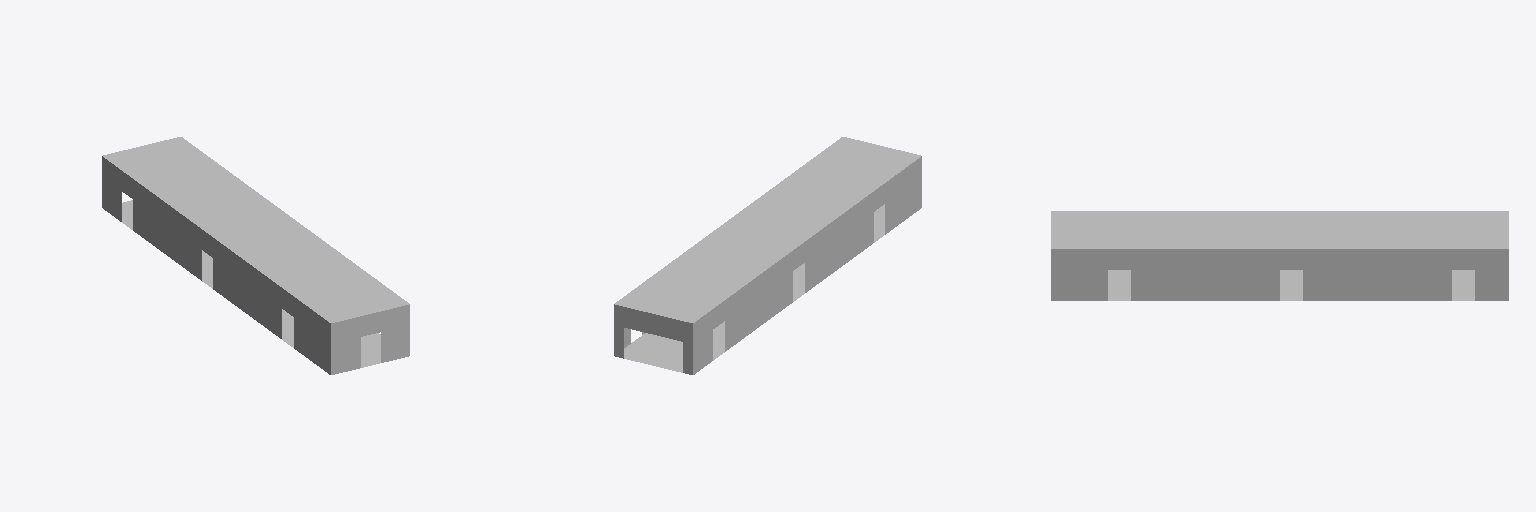
Rendered from upper corridor.obj.
3 views of the same model, side by side, from view 1: azimuth 30°, elevation 25°; view 2: azimuth 150°, elevation 25°; view 3: azimuth 270°, elevation 25° (orthographic).
Visible parts, largest first — view 1: result.011_Cube.011; view 2: result.011_Cube.011; view 3: result.011_Cube.011.
Part boxes in pixels (bbox=[...]): result.011_Cube.011: bbox=[102, 137, 409, 374]; result.011_Cube.011: bbox=[614, 137, 921, 374]; result.011_Cube.011: bbox=[1051, 211, 1508, 300].
Size of the model in its own units: 8 by 5 by 40.